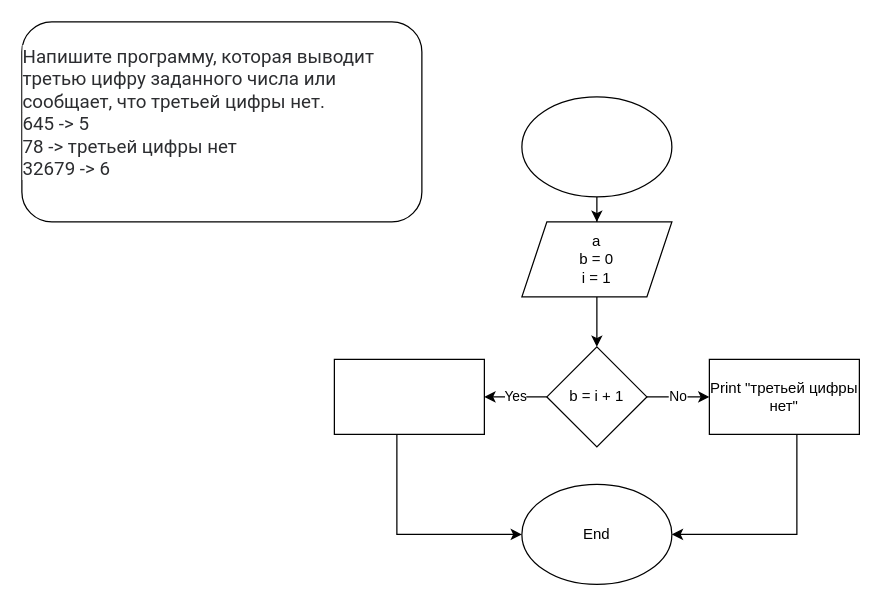
Some shapes in this 881 by 606 pixel diagram are drawn without their labels. Each missing label, with the box of its shape:
Print b: (333, 358, 484, 434)
Start: (521, 96, 672, 197)
